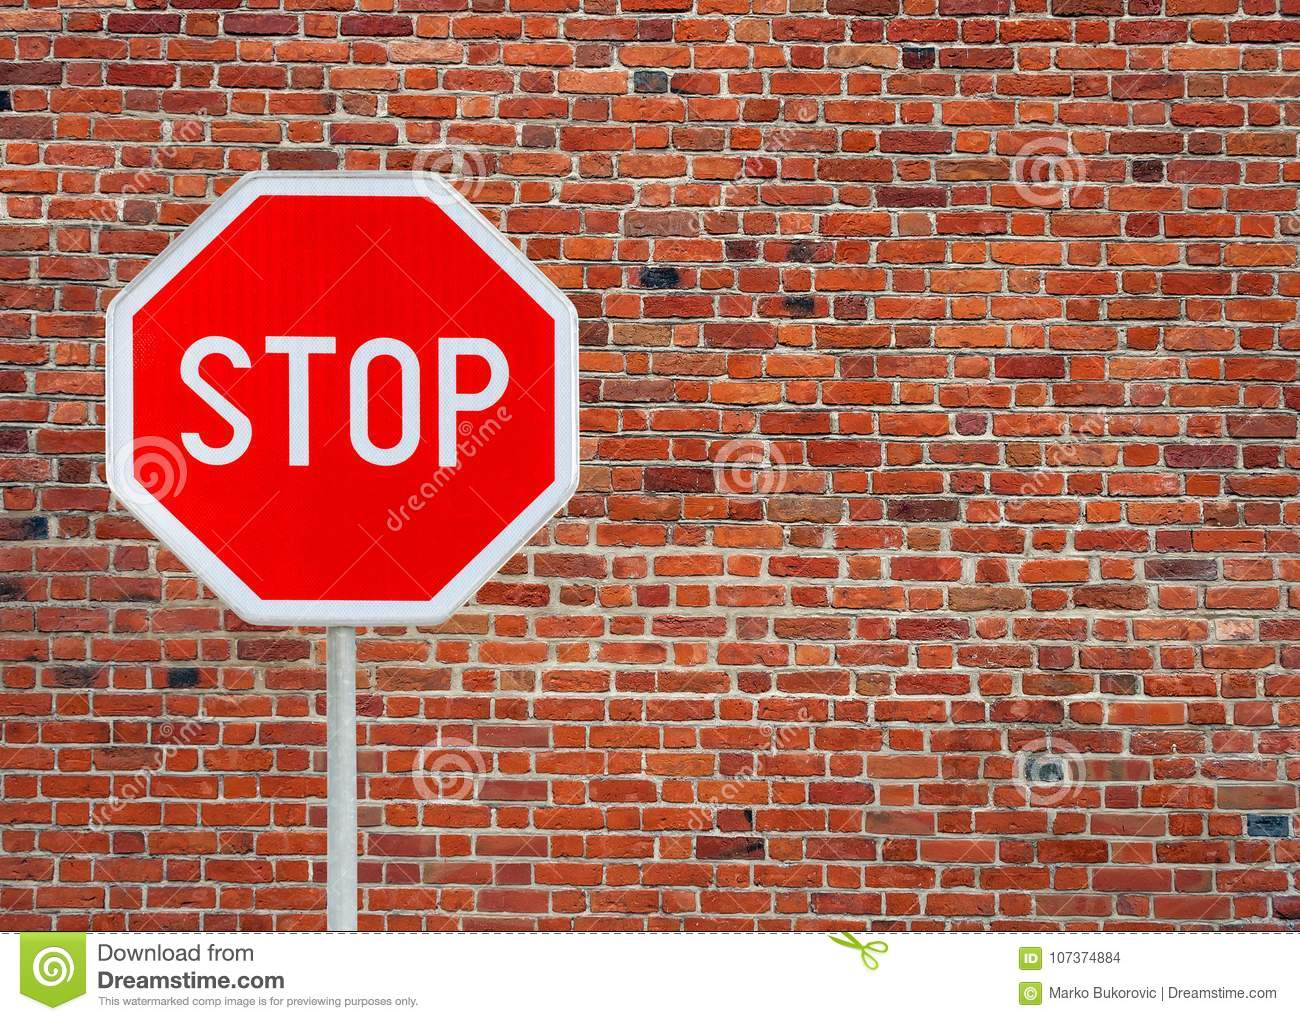stop: (97, 148, 587, 670)
